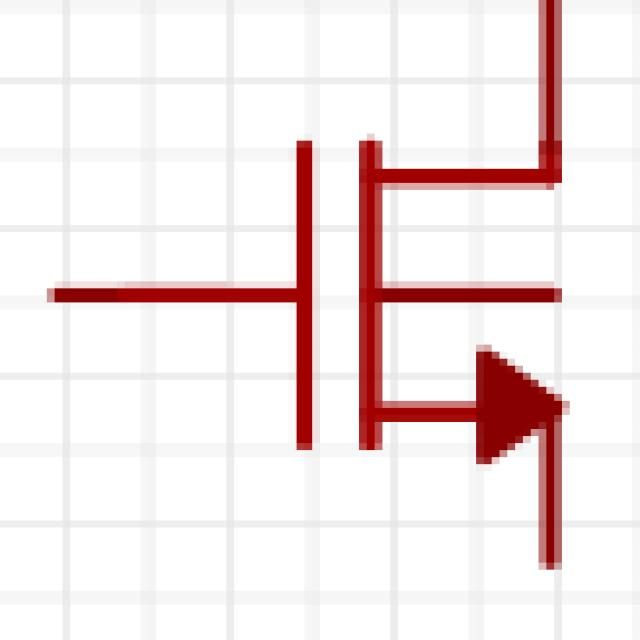nmos: (31, 22, 607, 575)
